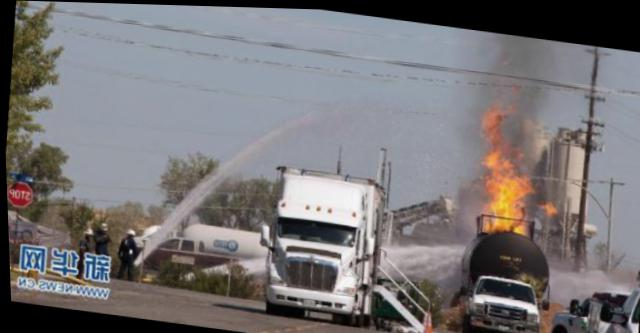fire: (486, 170, 534, 215), (484, 136, 522, 168), (481, 101, 508, 135), (484, 211, 529, 230), (537, 193, 560, 211)
